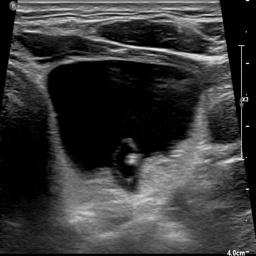mass: (45, 60, 199, 179)
